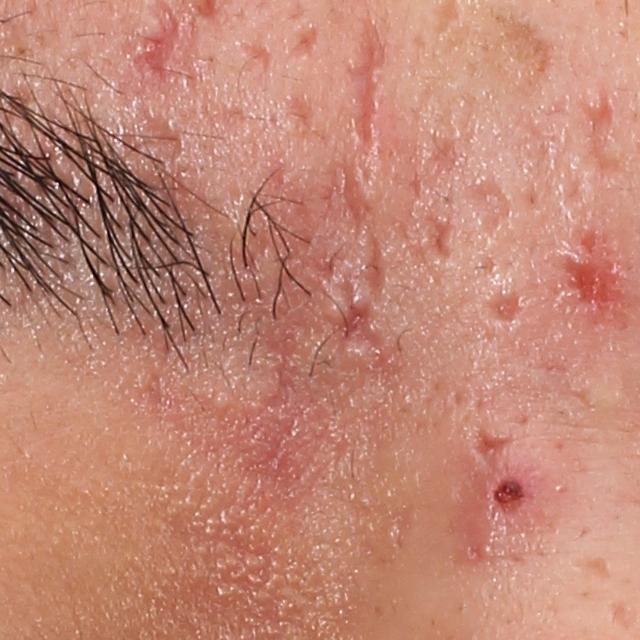atrophic_scar: (327, 272, 403, 377), (559, 228, 627, 324), (351, 4, 384, 160), (576, 88, 630, 175), (336, 157, 383, 232), (464, 175, 511, 237), (139, 108, 191, 162), (237, 25, 278, 80), (481, 289, 527, 332), (361, 235, 388, 307), (559, 552, 615, 584), (468, 423, 513, 459), (427, 214, 456, 264), (283, 22, 318, 63)
papule: (461, 459, 557, 547)
